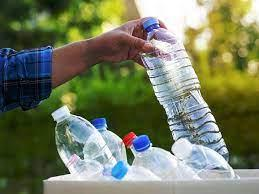paper: (125, 8, 232, 177), (40, 96, 115, 184), (121, 130, 196, 194), (88, 113, 135, 167)
